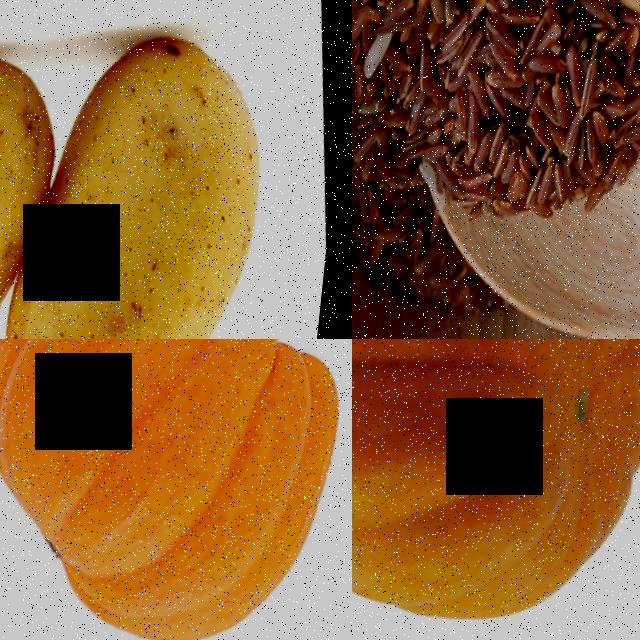potato: (8, 20, 311, 339), (0, 44, 92, 339)
pumpkin: (0, 339, 352, 640), (352, 339, 640, 640)
red rice: (420, 0, 640, 232), (352, 0, 478, 249)
